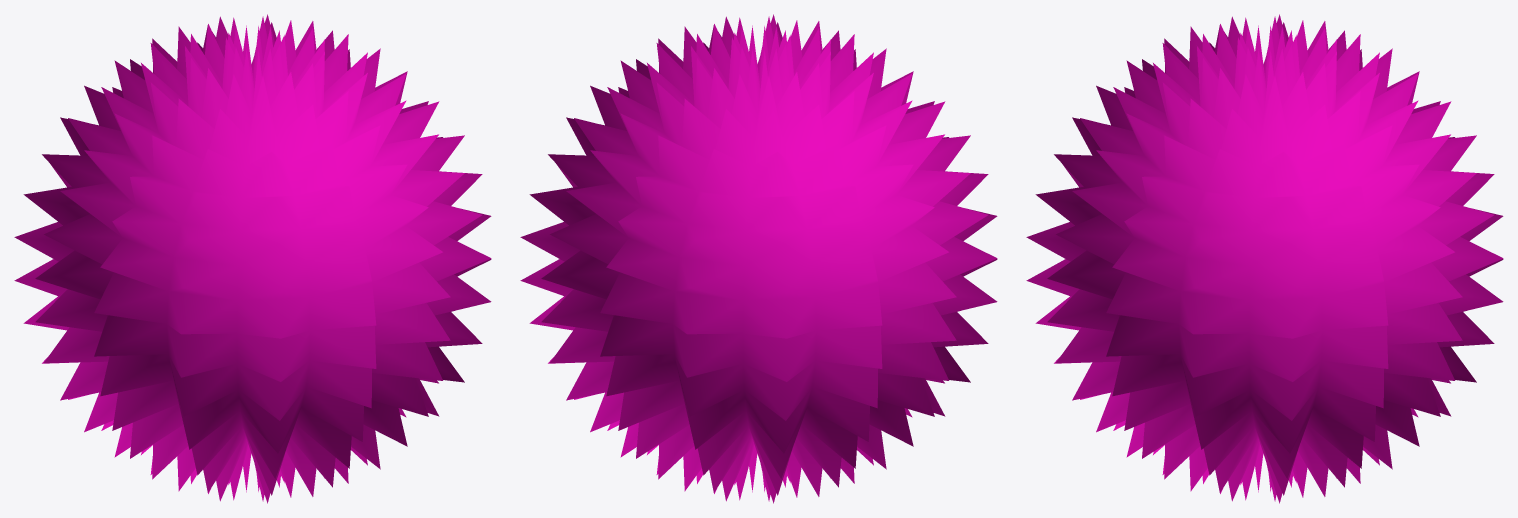
Rendered from Bomba.fbx.
3 renders of one model, left to right at view 1: azimuth 30°, elevation 25°; view 2: azimuth 150°, elevation 25°; view 3: azimuth 270°, elevation 25°, orthographic.
Visible parts, largest first — view 1: Sphere; view 2: Sphere; view 3: Sphere.
Part boxes in pixels (<box>): Sphere: <box>14,14,491,503</box>; Sphere: <box>520,14,997,503</box>; Sphere: <box>1026,14,1503,503</box>.
Size of the model in its own units: 270 by 276 by 269.
